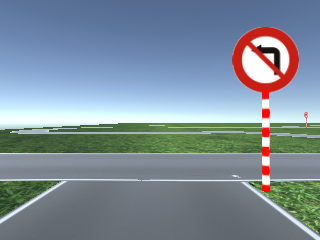-5: (1, 198, 320, 239)
NoLeft: (231, 26, 300, 93)
